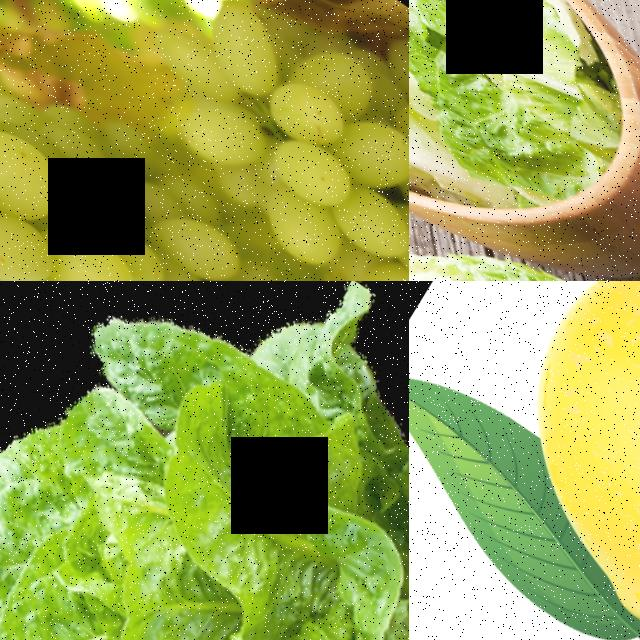grapes: (0, 29, 409, 281), (101, 0, 409, 281)
lemon: (453, 281, 640, 640)
lettuce: (0, 281, 409, 640), (409, 0, 599, 232)
